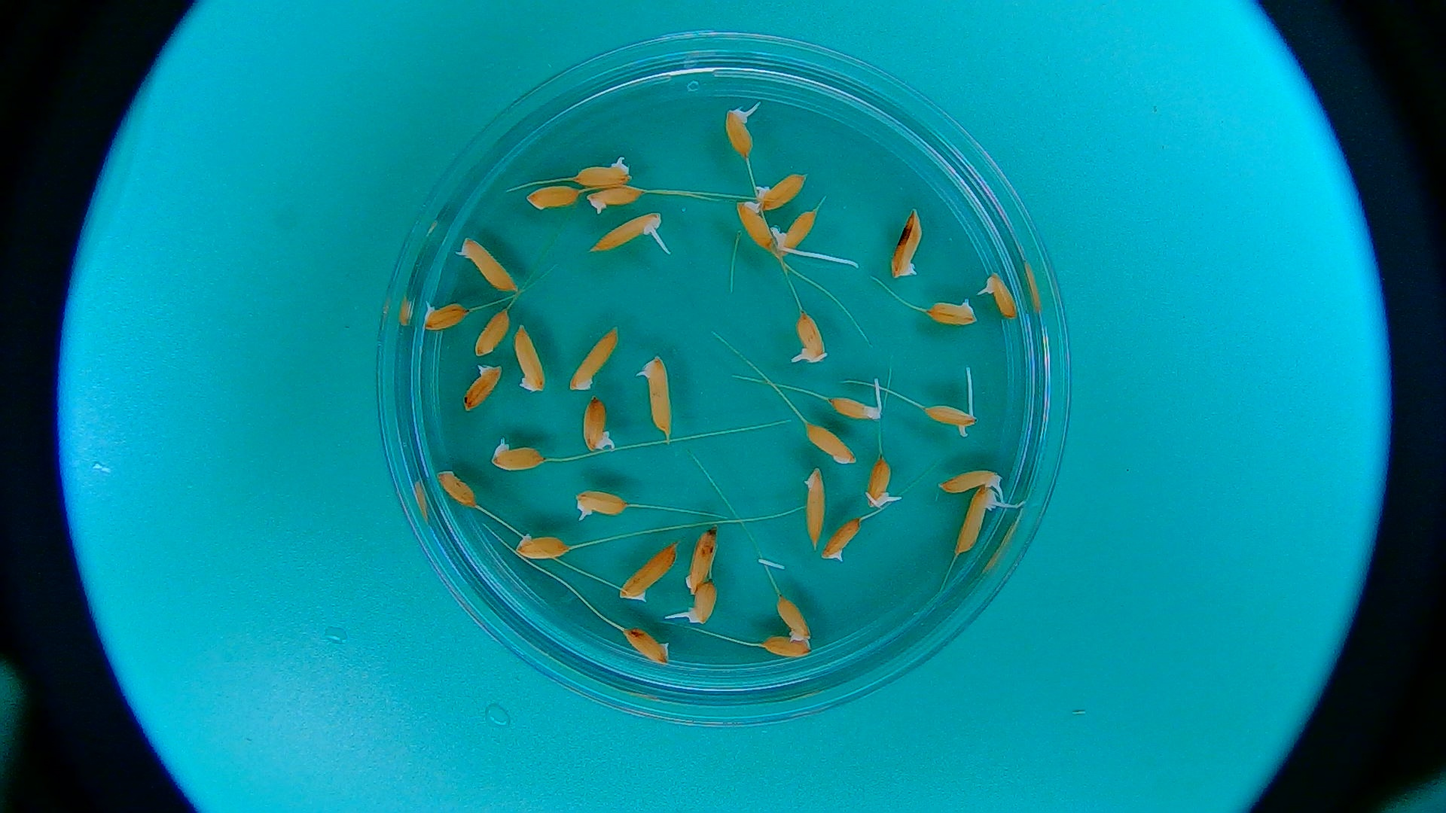no: (619, 541, 679, 601), (569, 325, 620, 391), (512, 321, 548, 394), (889, 206, 923, 281), (803, 421, 859, 465), (734, 203, 776, 257), (687, 525, 719, 595), (621, 623, 673, 664), (776, 592, 816, 641), (463, 363, 502, 413), (924, 294, 977, 330), (514, 528, 570, 562), (823, 515, 862, 563), (803, 467, 826, 545), (584, 185, 648, 213), (755, 173, 806, 207), (434, 467, 477, 507), (474, 309, 508, 356), (526, 186, 582, 212), (760, 635, 813, 656)
yes: (953, 483, 999, 556), (458, 234, 511, 295), (591, 216, 666, 253), (641, 357, 675, 432), (789, 310, 829, 368), (488, 434, 549, 472), (976, 269, 1017, 321), (920, 403, 980, 437), (582, 394, 615, 455), (938, 467, 1008, 495), (575, 489, 632, 522), (571, 155, 631, 186), (420, 296, 470, 333), (776, 209, 816, 253), (827, 392, 885, 422), (684, 579, 720, 623), (864, 457, 894, 507), (725, 107, 753, 160)
